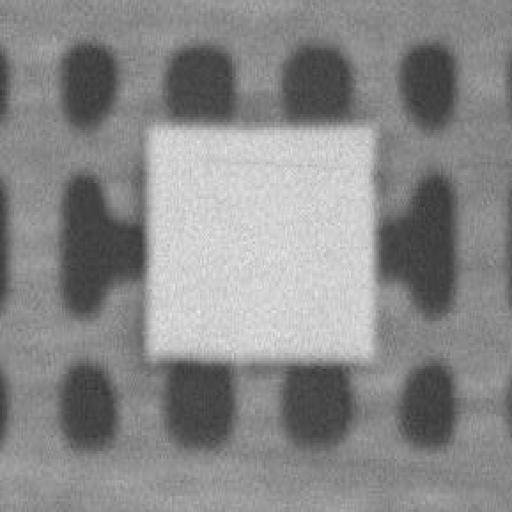DIE_CRACK: (307, 104, 512, 109)
